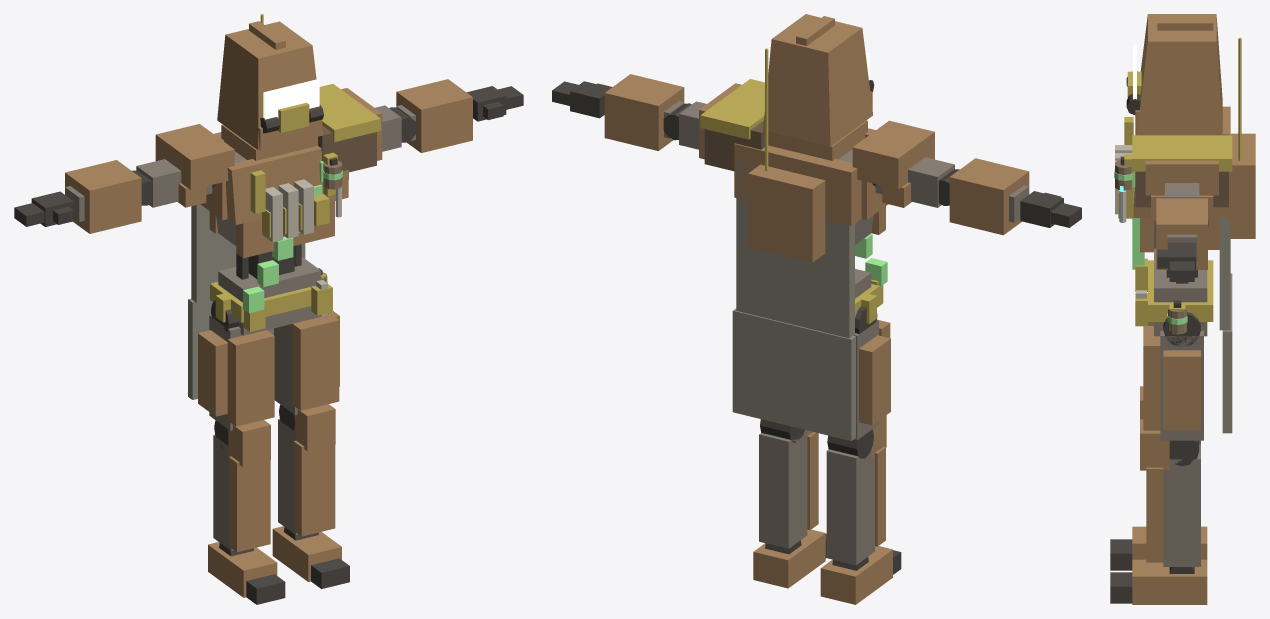
File: char_P_squad_leader.glb
The picture shows the model from 3 angles, left to right: view 1: azimuth 30°, elevation 25°; view 2: azimuth 150°, elevation 25°; view 3: azimuth 270°, elevation 25°; orthographic projection. The views are drawn at different scales.
Visible parts, largest first — view 1: Head_mesh, UpperChest_mesh, RightUpperLeg_mesh, LeftLowerLeg_mesh, RightLowerLeg_mesh, Hips_mesh, LeftUpperLeg_mesh, RightUpperArm_mesh, RightLowerArm_mesh, LeftLowerArm_mesh, LeftShoulder_mesh, Chest_mesh (+11 smaller); view 2: UpperChest_mesh, Hips_mesh, Head_mesh, RightLowerLeg_mesh, LeftLowerLeg_mesh, RightUpperArm_mesh, RightLowerArm_mesh, LeftLowerArm_mesh, LeftShoulder_mesh, RightUpperLeg_mesh, LeftFoot_mesh, RightFoot_mesh (+4 smaller); view 3: Head_mesh, LeftLowerLeg_mesh, LeftUpperLeg_mesh, UpperChest_mesh, Hips_mesh, LeftShoulder_mesh, LeftFoot_mesh, LeftUpperArm_mesh, LeftLowerArm_mesh, LeftHand_mesh, Chest_mesh, RightFoot_mesh (+5 smaller).
Boxes of the visible parts, x1,y1,x2,y2 form: Head_mesh: (217,21,323,150); UpperChest_mesh: (191,14,348,302); RightUpperLeg_mesh: (198,300,274,430); LeftLowerLeg_mesh: (278,404,335,536); RightLowerLeg_mesh: (213,420,270,552); Hips_mesh: (188,257,332,399); LeftUpperLeg_mesh: (274,311,339,414); RightUpperArm_mesh: (136,124,234,207); RightLowerArm_mesh: (65,160,152,233); LeftLowerArm_mesh: (389,79,472,152); LeftShoulder_mesh: (318,84,380,172); Chest_mesh: (209,201,334,313); UpperChest_mesh: (734,48,887,338); Hips_mesh: (732,269,883,440); Head_mesh: (763,14,874,146); RightLowerLeg_mesh: (826,415,886,565); LeftLowerLeg_mesh: (759,419,818,548); RightUpperArm_mesh: (852,120,954,207); RightLowerArm_mesh: (938,158,1029,235); LeftLowerArm_mesh: (604,74,691,150); LeftShoulder_mesh: (700,79,764,171); RightUpperLeg_mesh: (854,306,890,439); LeftFoot_mesh: (753,529,825,588); RightFoot_mesh: (820,546,892,604); Head_mesh: (1126,14,1222,134); LeftLowerLeg_mesh: (1140,419,1200,566); LeftUpperLeg_mesh: (1143,312,1203,440); UpperChest_mesh: (1118,37,1255,330); Hips_mesh: (1135,248,1232,433); LeftShoulder_mesh: (1132,134,1232,207); LeftFoot_mesh: (1132,559,1207,604); LeftUpperArm_mesh: (1145,160,1218,216); LeftLowerArm_mesh: (1156,198,1207,269); LeftHand_mesh: (1157,242,1196,281); Chest_mesh: (1132,218,1219,269); RightFoot_mesh: (1132,526,1207,559).
Bounding box in the file's own units: 1.92 × 1.97 × 0.465.
